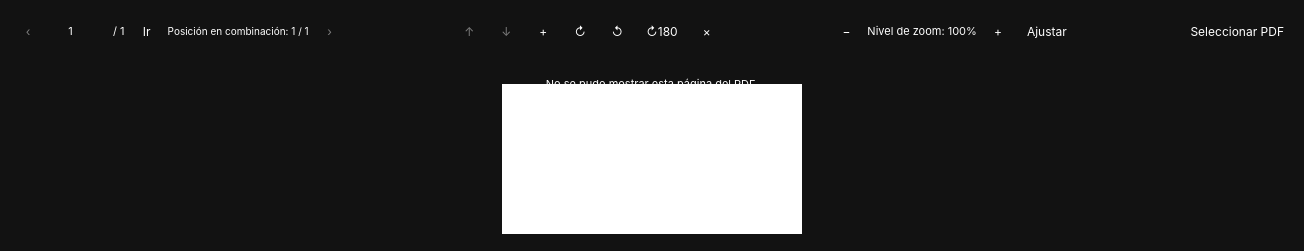
PageViewer render queue integration › clears a page error when a new render attempt is queued
expect the message reads "No se pudo mostrar esta página del PDF.": met, box [546, 77, 758, 91]
Click the button named "Aumentar zoom". click: (998, 31)
box: [982, 15, 1014, 47]
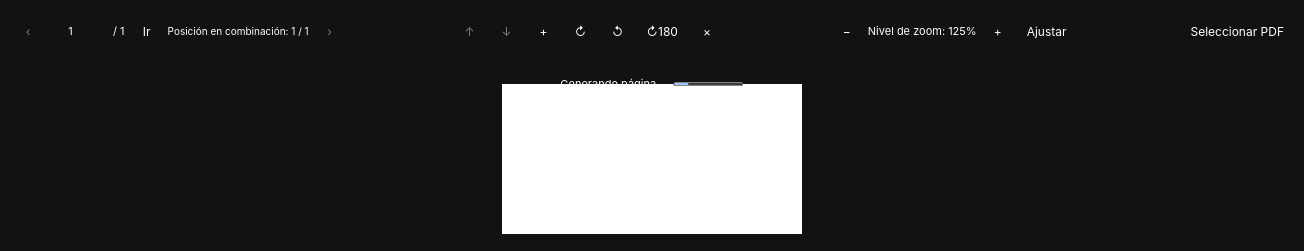
expect the progress indicator named "Progreso de renderizado" is shown: met, box [674, 80, 744, 88]
